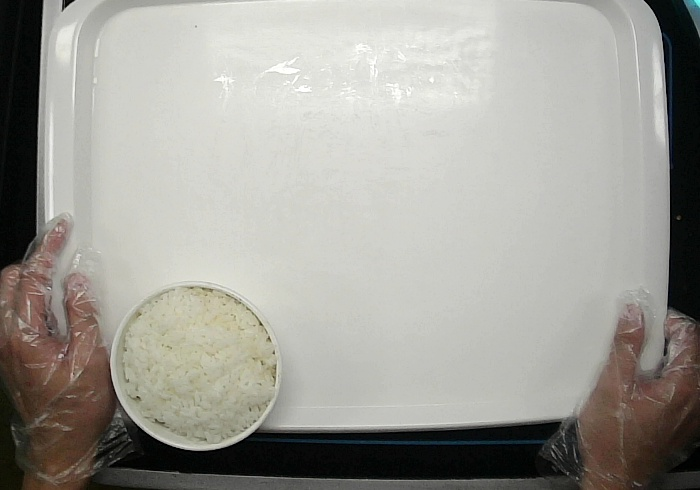HZYJPL-Fan_Wan: (109, 281, 283, 451)
